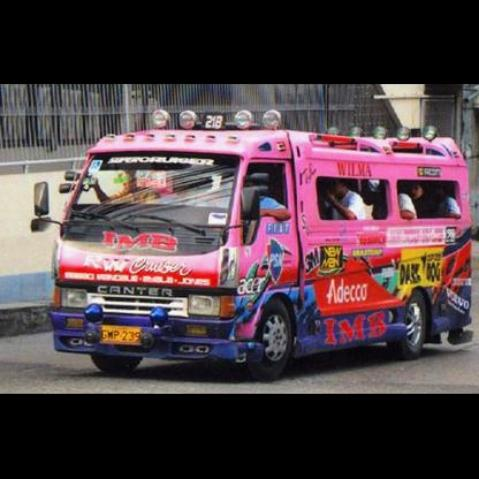jeepney: (42, 104, 476, 388)
